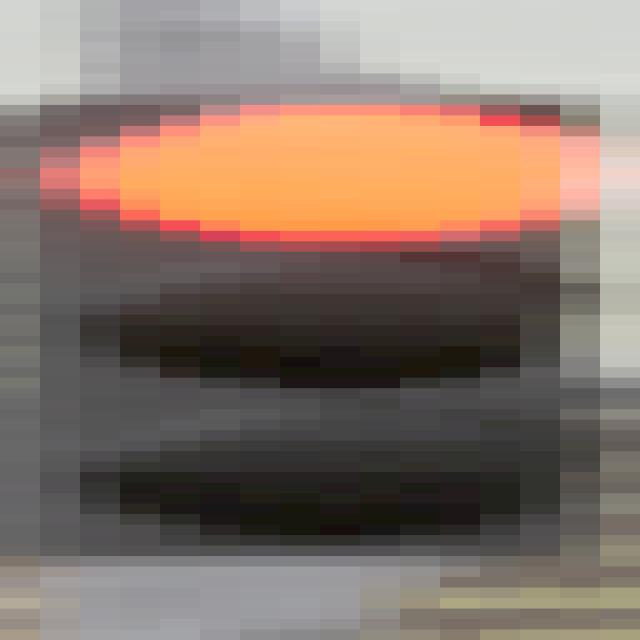red_light: (0, 74, 640, 556)
